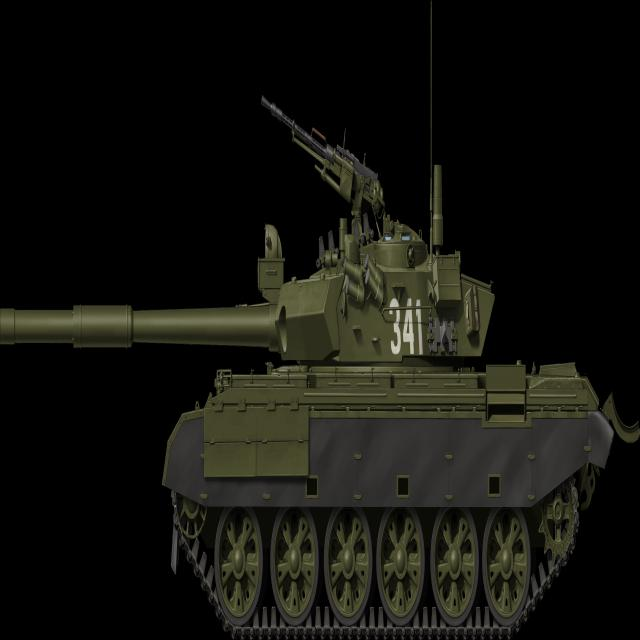north tank: (2, 13, 640, 640)
